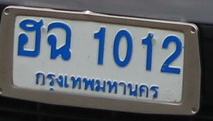txt07: (45, 21, 74, 62)
txt39: (14, 17, 45, 58)
